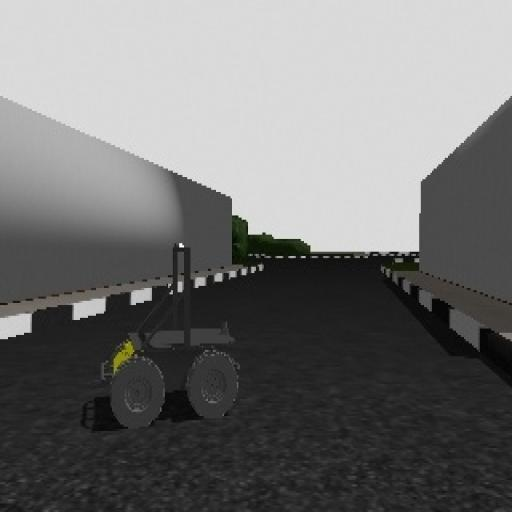huskya200: (88, 234, 252, 457)
